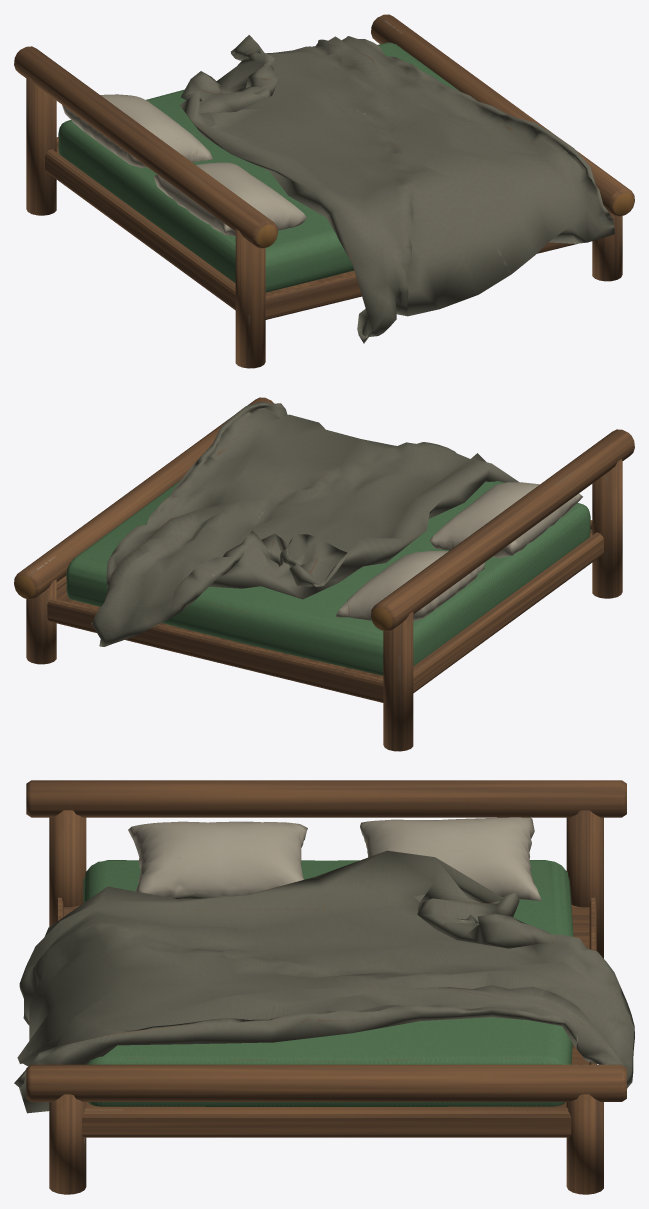
Rendered from QueenBed1.fbx.
The picture shows the model from 3 angles, top to bottom: view 1: azimuth 30°, elevation 25°; view 2: azimuth 150°, elevation 25°; view 3: azimuth 270°, elevation 25°; orthographic projection. The views are drawn at different scales.
Visible parts, largest first — view 1: Queen bed 1; view 2: Queen bed 1; view 3: Queen bed 1.
Part boxes in pixels (x1,y1,x2,y2): Queen bed 1: (14,14,634,368); Queen bed 1: (14,397,634,751); Queen bed 1: (14,780,634,1194).
Bounding box in the file's own units: 376 × 143 × 426.
